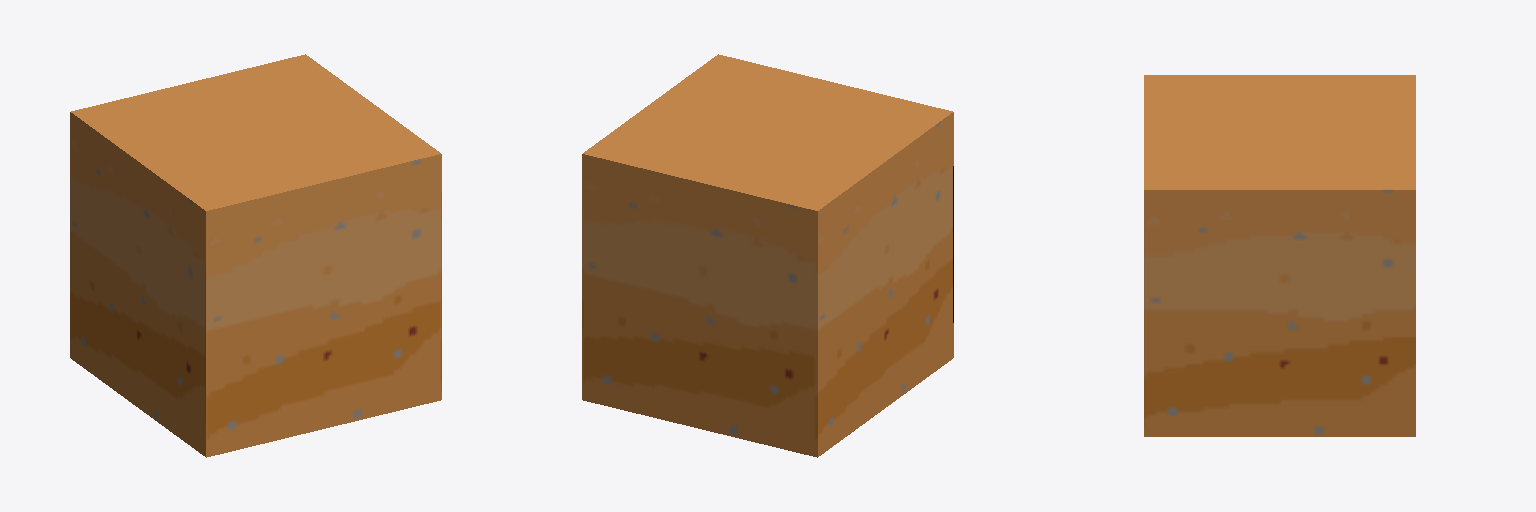
3 views of the same model, side by side, from view 1: azimuth 30°, elevation 25°; view 2: azimuth 150°, elevation 25°; view 3: azimuth 270°, elevation 25° (orthographic).
Visible parts, largest first — view 1: Cube; view 2: Cube; view 3: Cube.
Part boxes in pixels (left/top/right/bottom): Cube: left=70, top=54, right=441, bottom=457; Cube: left=582, top=54, right=953, bottom=457; Cube: left=1144, top=75, right=1415, bottom=436.
Size of the model in its own units: 2 by 2 by 2.
1 materials, 1 textured.